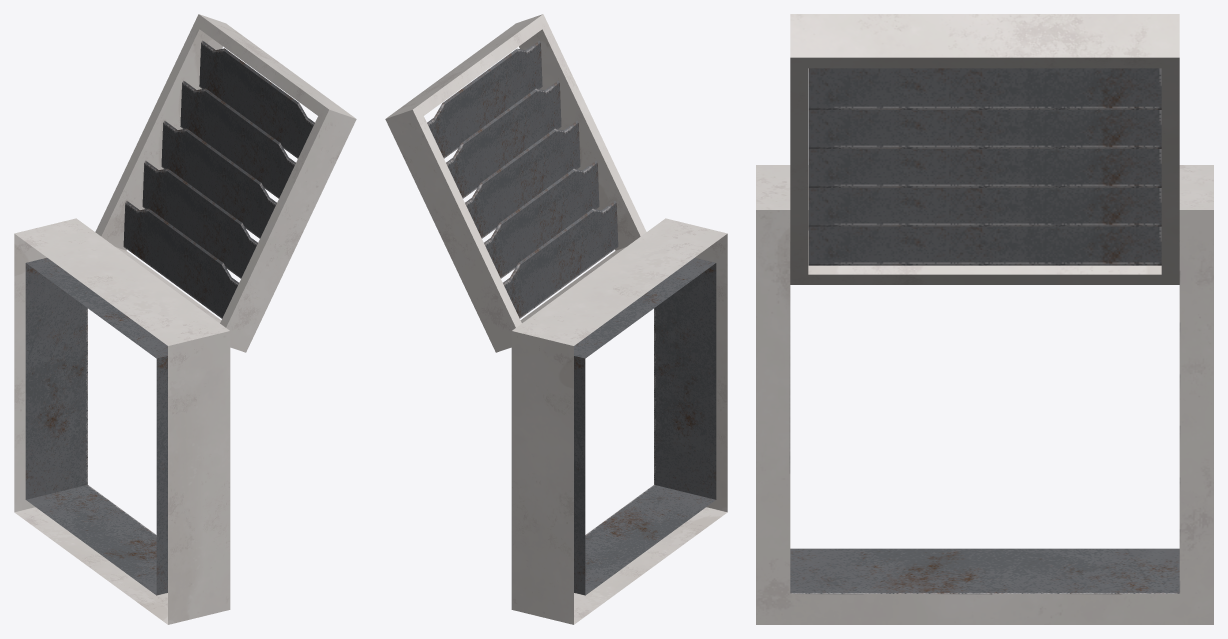
The model's file is PF_VentEntr.fbx.
3 views of the same model, side by side, from view 1: azimuth 30°, elevation 25°; view 2: azimuth 150°, elevation 25°; view 3: azimuth 270°, elevation 25° (orthographic). The views are drawn at different scales.
Visible parts, largest first — view 1: Vents_001, Plane_001, Vents_002; view 2: Vents_001, Plane_001, Vents_002; view 3: Plane_001, Vents_001, Vents_002.
Part boxes in pixels (x1,y1,x2,y2): Vents_001: [14, 218, 230, 624]; Plane_001: [123, 40, 314, 318]; Vents_002: [95, 14, 356, 352]; Vents_001: [511, 218, 727, 624]; Plane_001: [427, 40, 618, 318]; Vents_002: [385, 14, 646, 352]; Plane_001: [808, 68, 1161, 265]; Vents_001: [756, 165, 1213, 624]; Vents_002: [790, 14, 1179, 284].
Bounding box in the file's own units: 88.4 × 196 × 118.
Materials: 1 (1 with a texture image).
